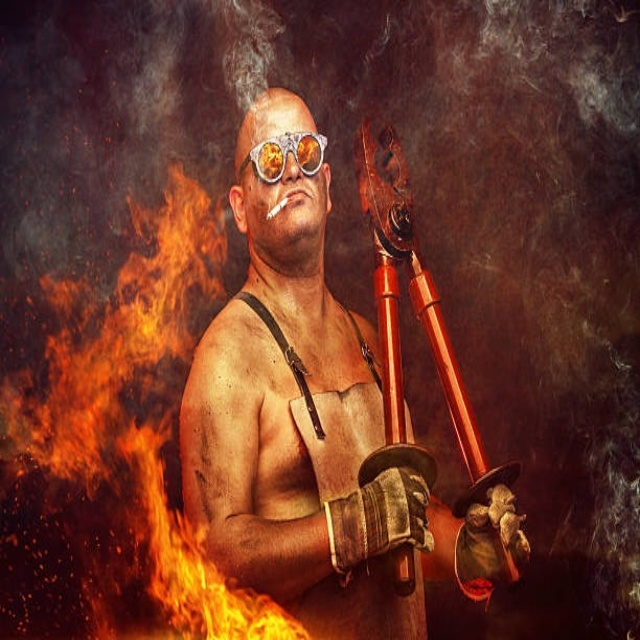Gafas: (240, 132, 328, 185)
Guantes: (325, 465, 432, 581), (456, 482, 531, 591)
Sin_mascara: (276, 182, 318, 231)
